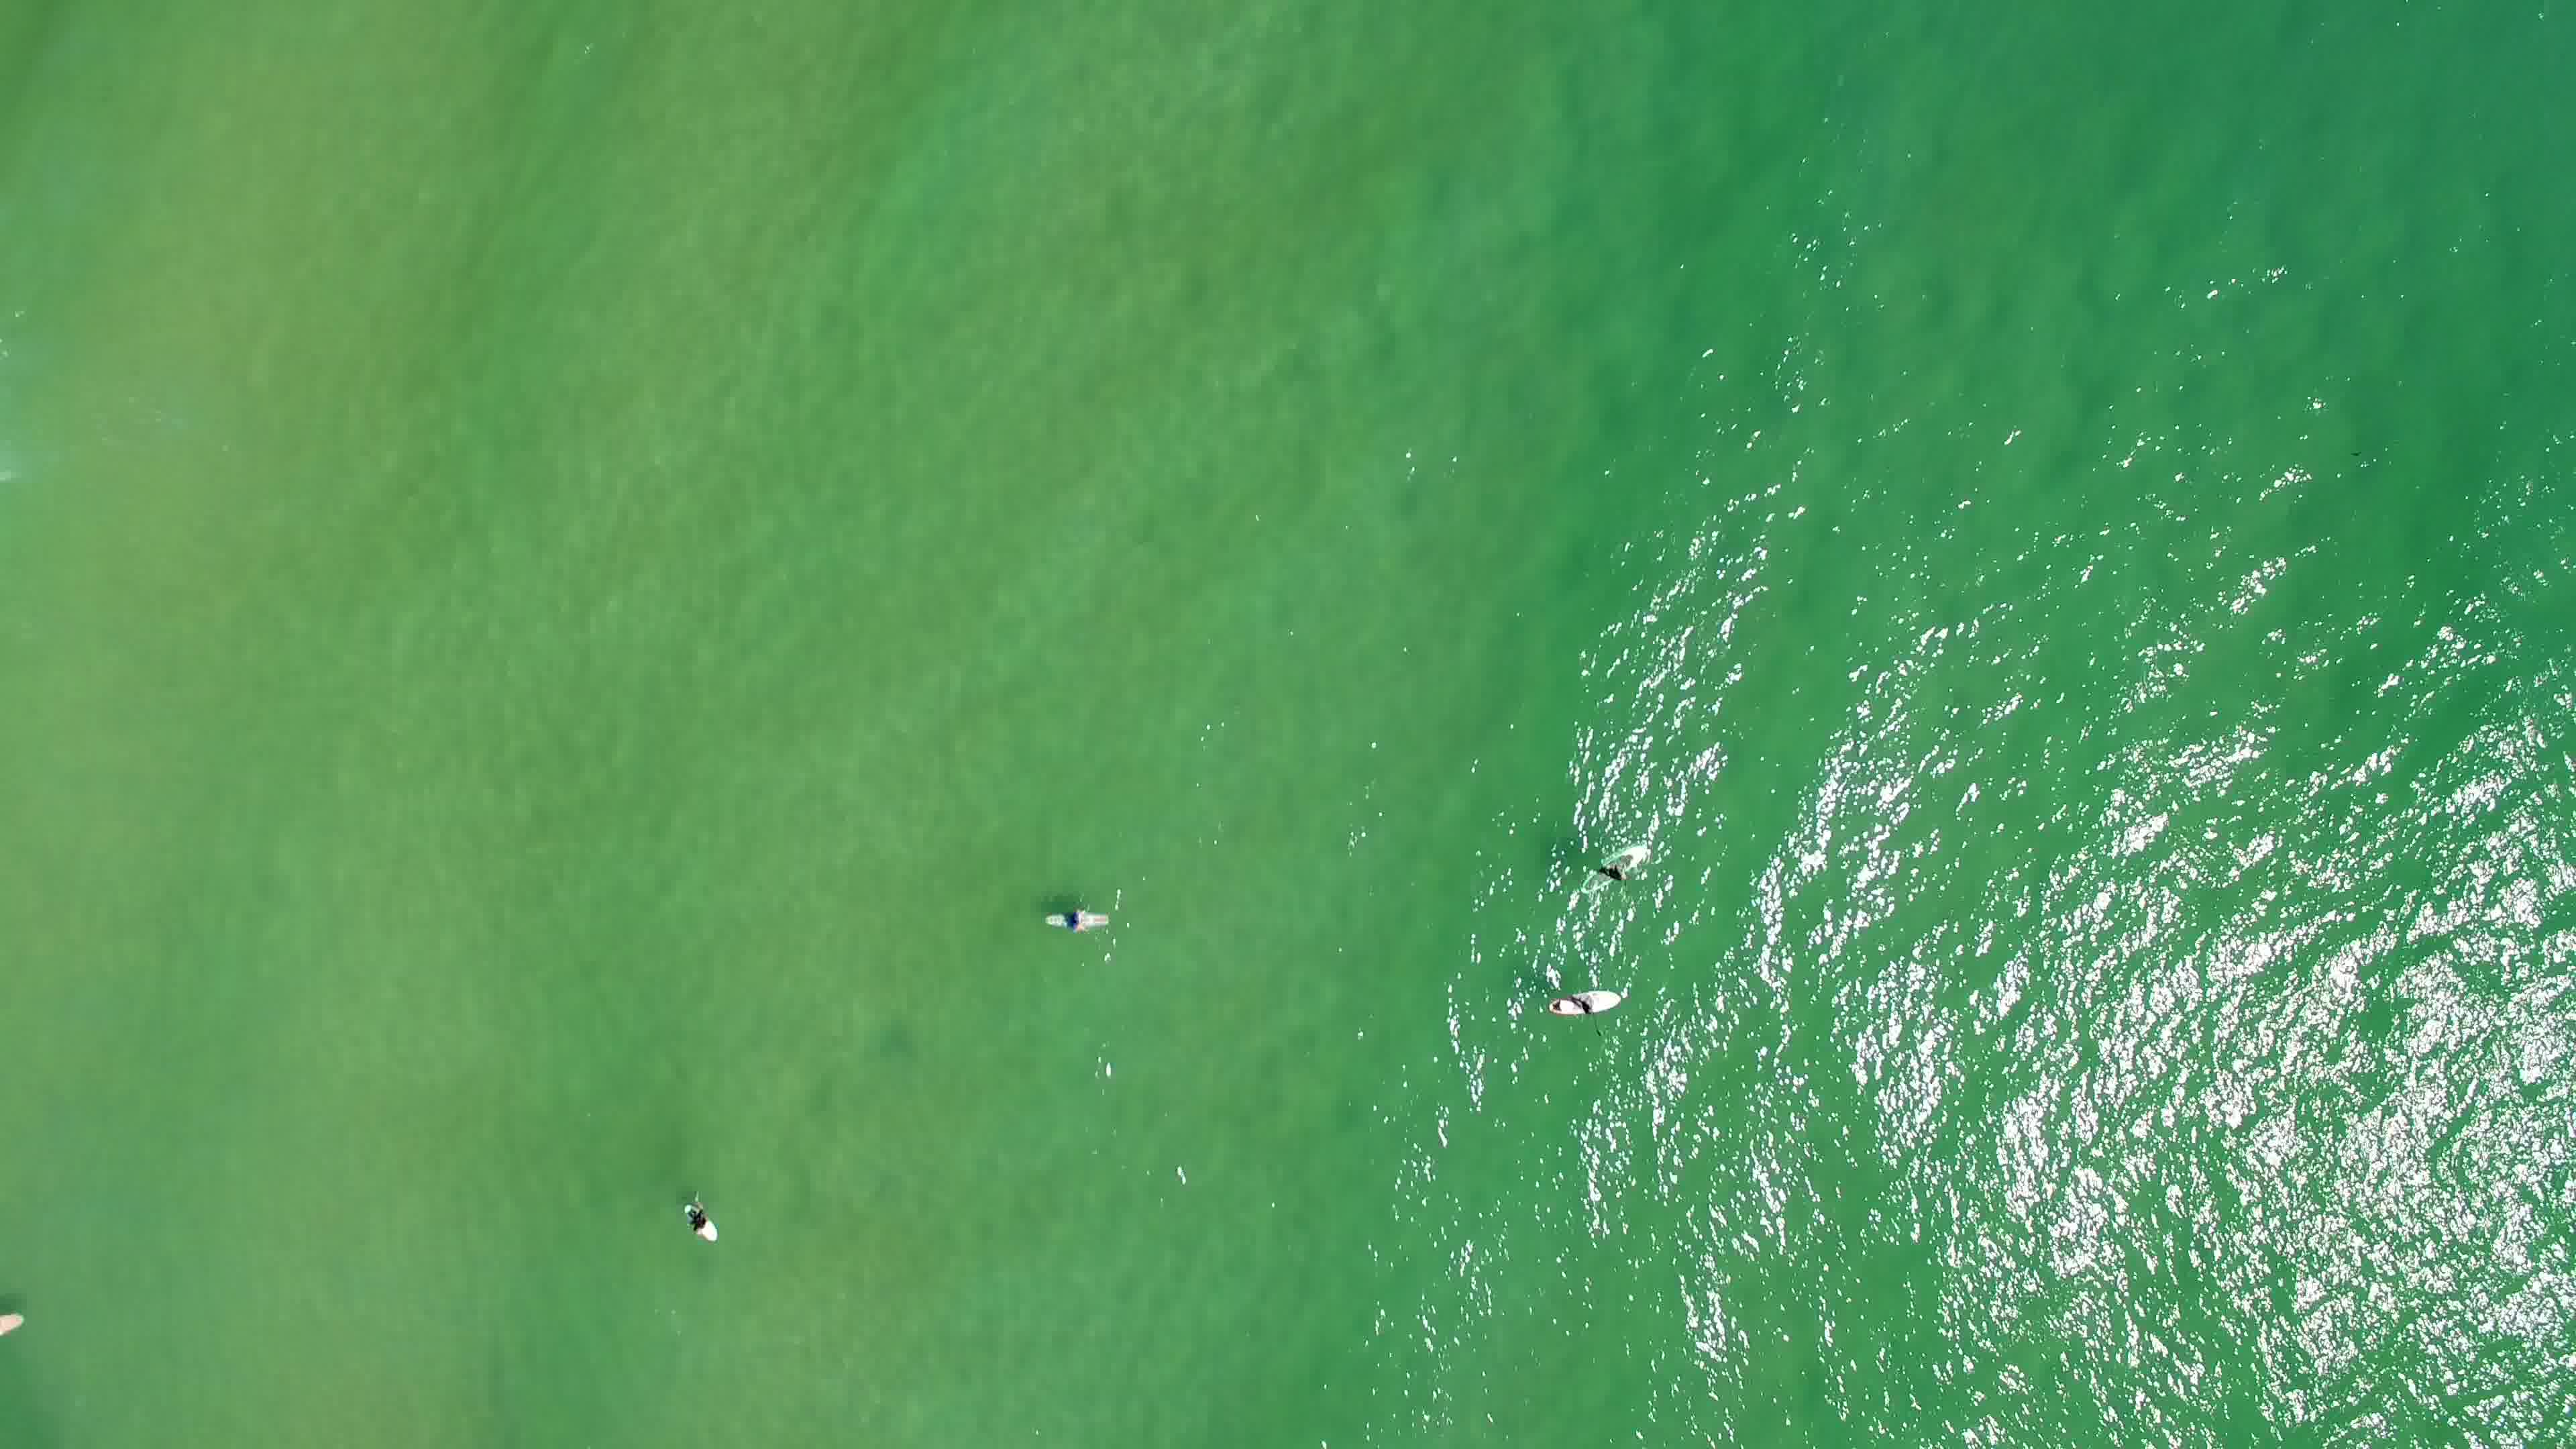surfer: (1576, 847, 1652, 897), (1039, 892, 1118, 938), (1537, 989, 1629, 1017), (678, 1200, 725, 1249)
